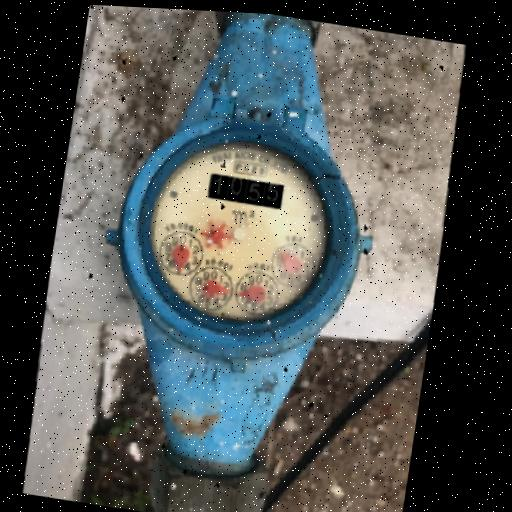0: (227, 177, 247, 204)
1: (209, 174, 230, 201)
5: (263, 183, 285, 209), (245, 180, 265, 206)
border_water_meter_number: (207, 173, 285, 211)
